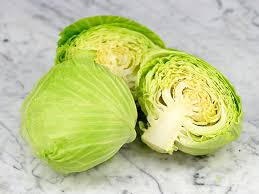cabbage: (23, 68, 141, 180), (137, 50, 250, 160), (61, 22, 167, 89)
